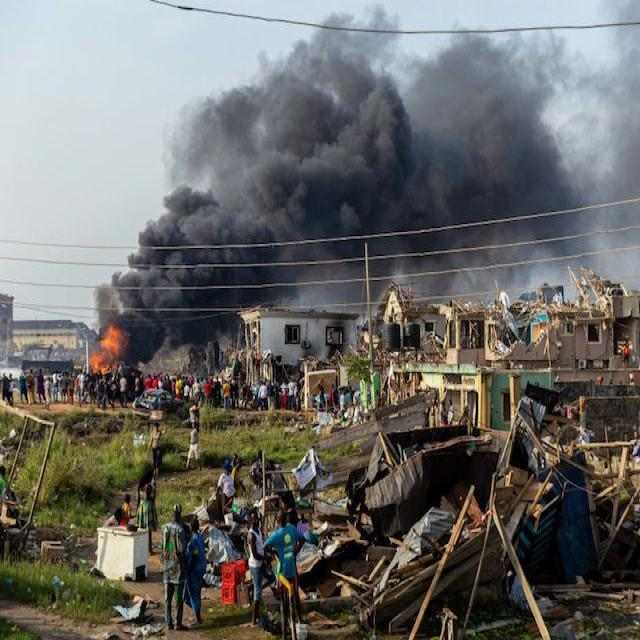Fire: (92, 328, 120, 375)
Smoke: (246, 61, 601, 212), (142, 223, 262, 319)
